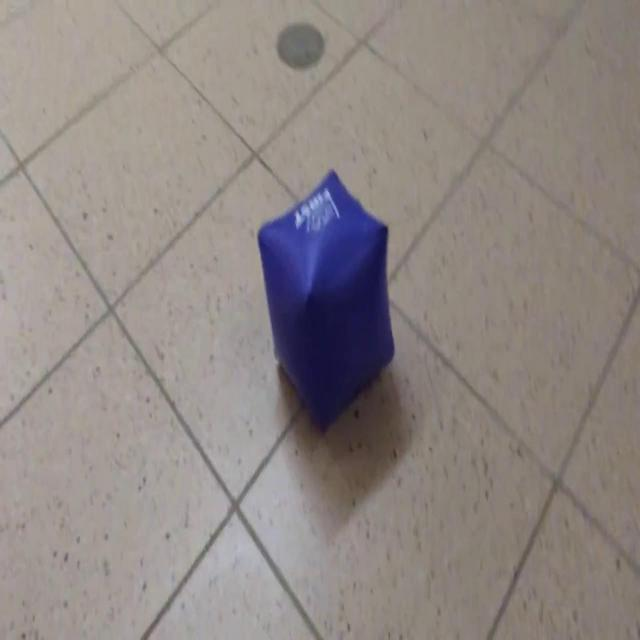frc_cube: (257, 168, 395, 433)
